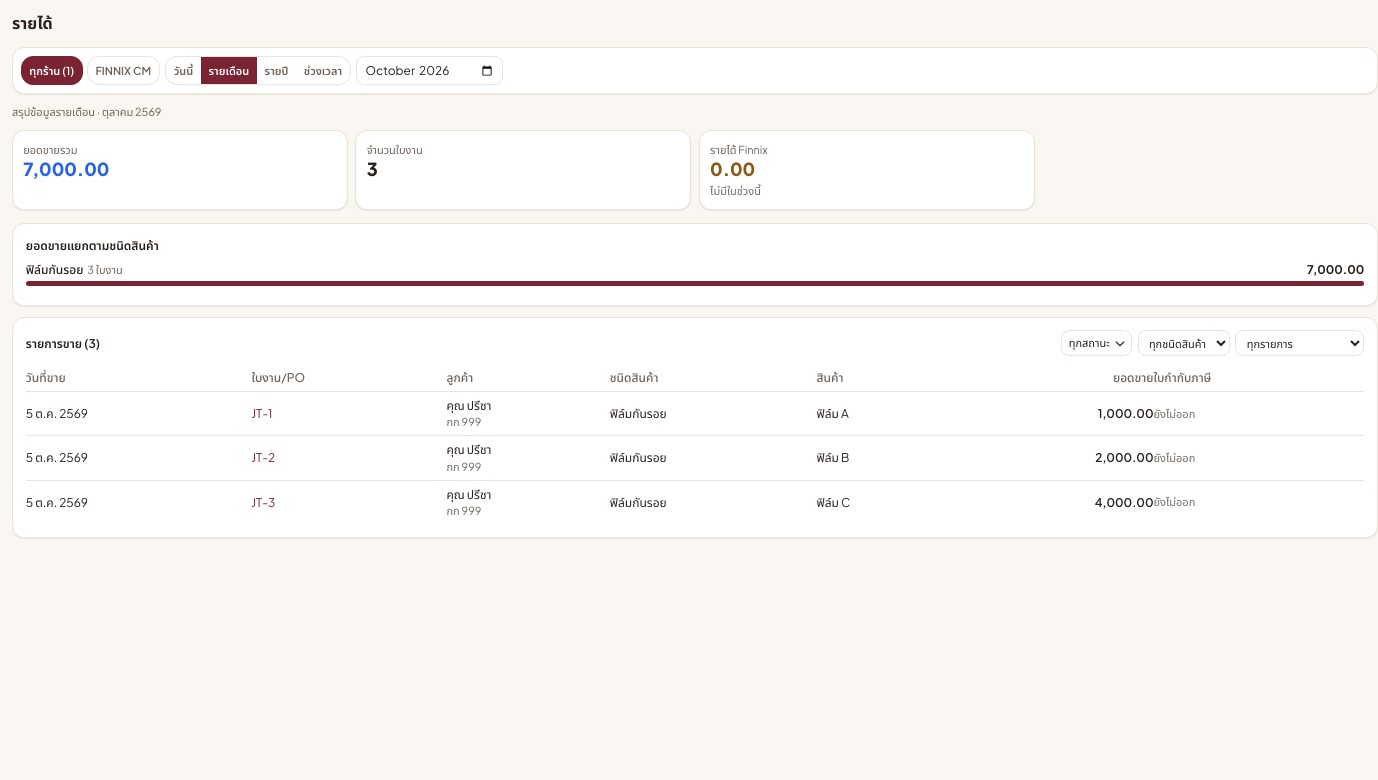
RevenueModule — กรองตามสถานะงาน › ติ๊กซ้ำเป็นการเอาออก
What coordinates should you click on to do the following:
click the button with aria-label "กรองตามสถานะงาน"
I would click on:
 (1097, 343)
Its box is [1061,330,1132,356].
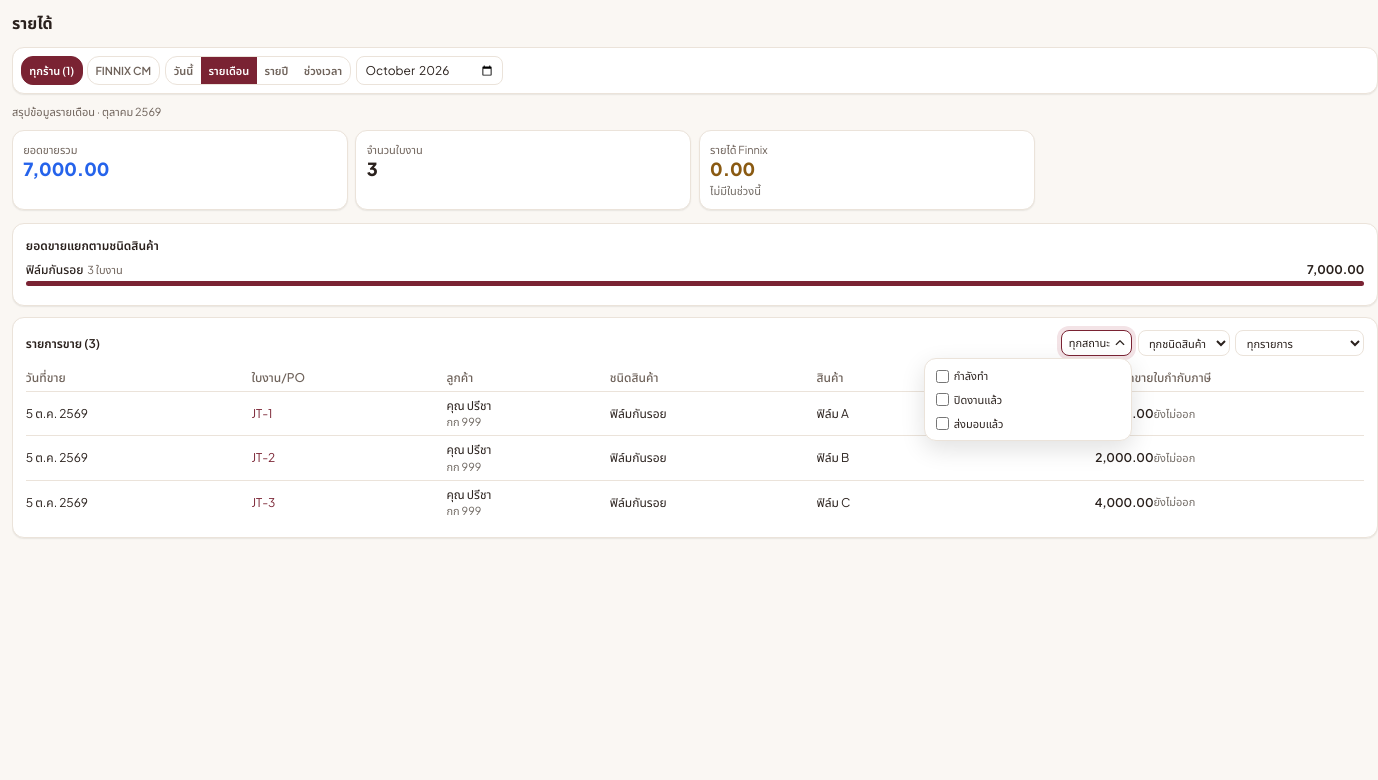
What coordinates should you click on to do the following:
click the checkbox labelled "กำลังทำ"
I would click on:
 (942, 376)
Its box is [936,370,949,383].
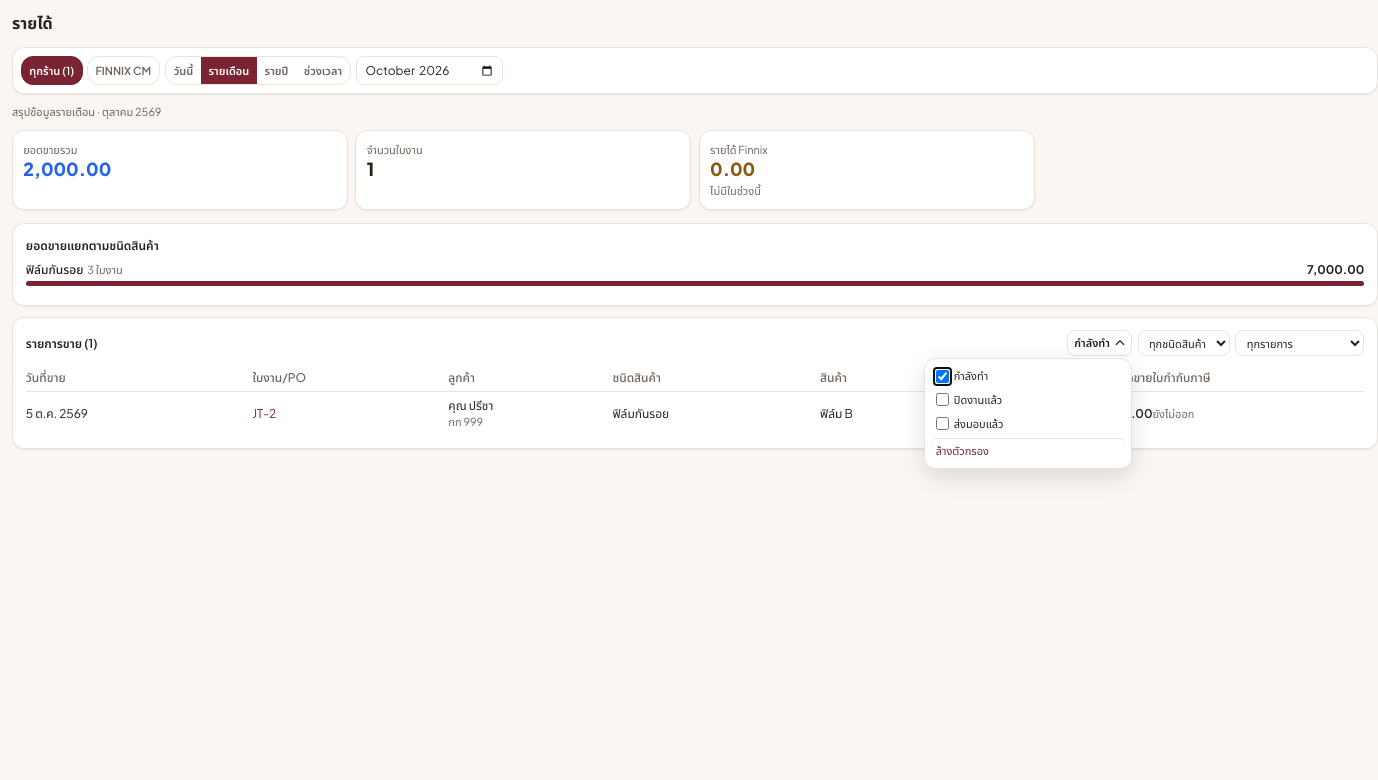
Result: the text "รายการขาย (1)" is shown at [26,334,97,352]
What coordinates should you click on to do the following:
click the checkbox labelled "กำลังทำ"
I would click on:
 (942, 376)
Its box is [936,370,949,383].
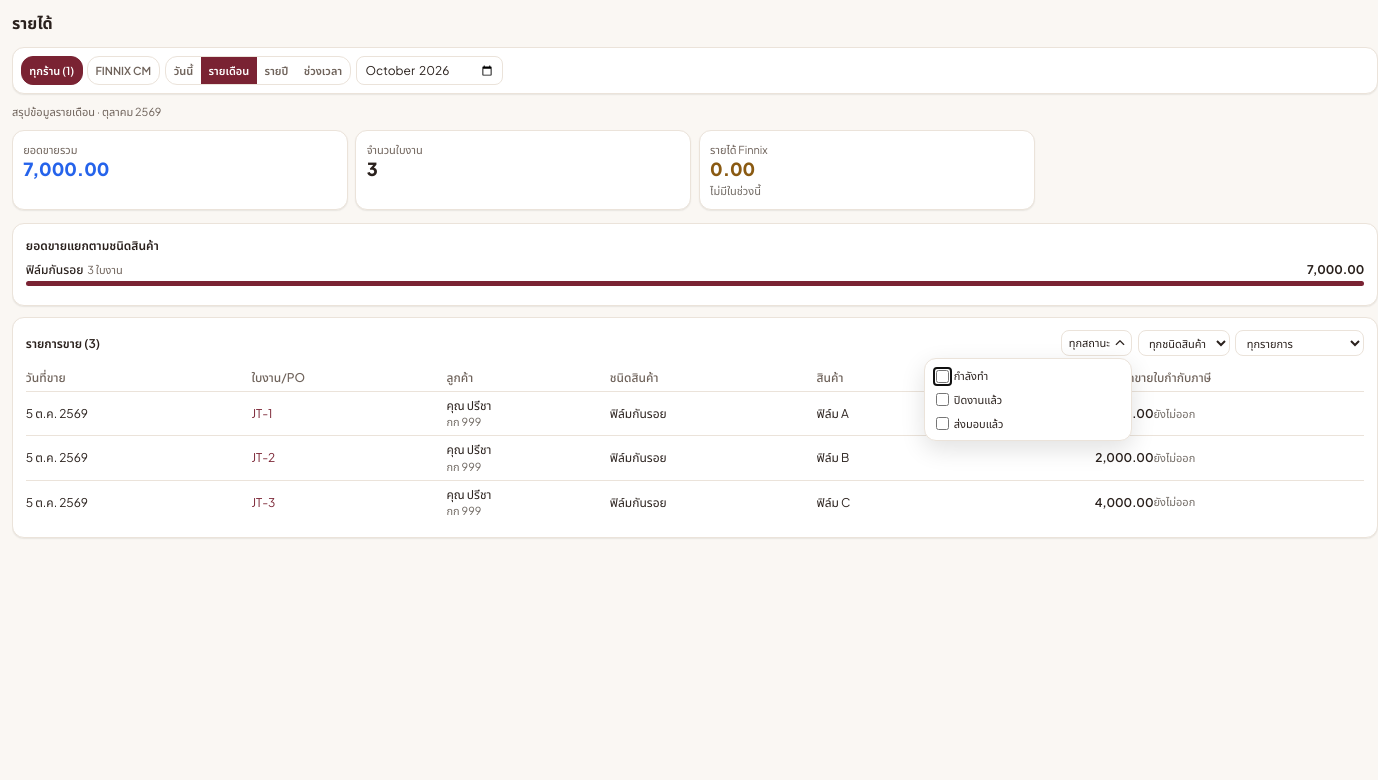
Result: the text "รายการขาย (3)" is shown at [26,334,100,352]
